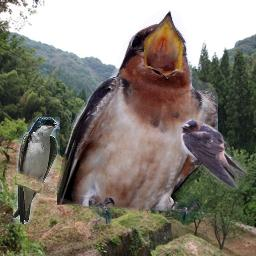Swallow: (57, 10, 218, 224), (13, 117, 60, 224), (179, 118, 248, 190)
